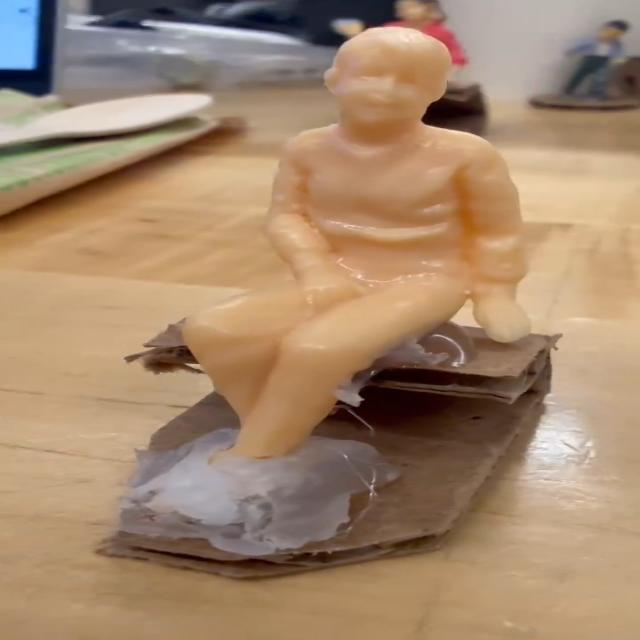Unauthorized: (180, 14, 549, 484)
